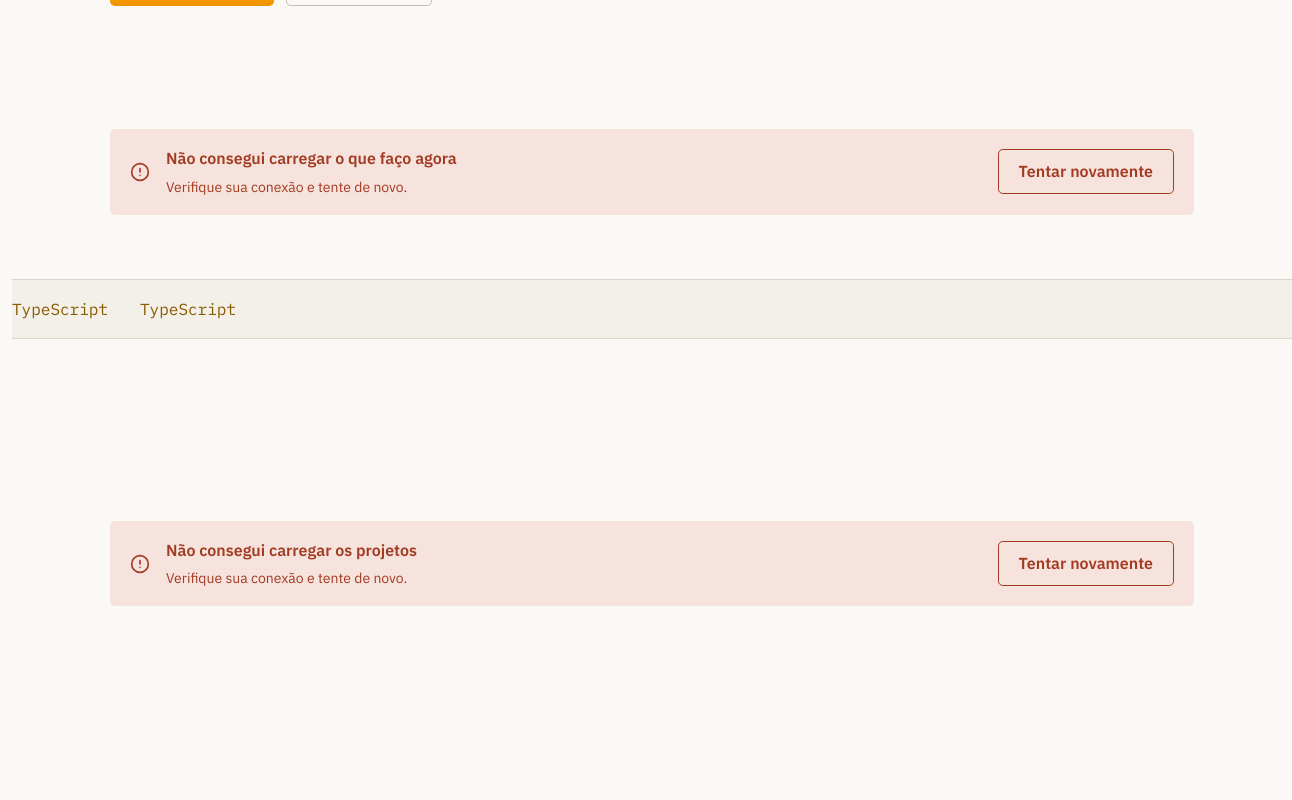
Test: HomePage › leva o foco ao alerta quando a nova tentativa falha de novo
(page scrolled)
Check: the text "Não consegui carregar os projetos" is shown, box [166,540,417,560]
Click the button "Tentar novamente" in the row of "Não consegui carregar os projetos".
click(1086, 564)  # box [998,541,1174,586]
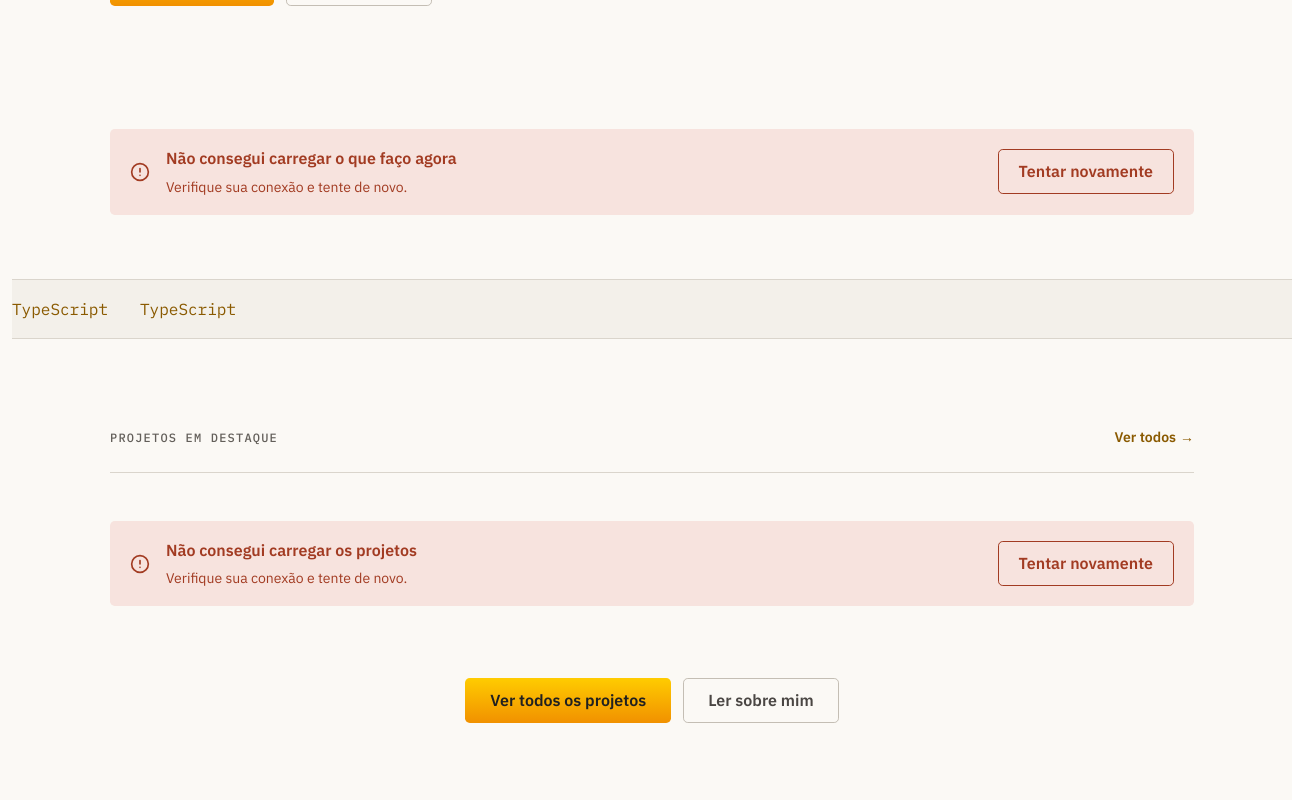
Check: the message that starts with "Não consegui carregar os projetos" is shown, box [166,540,417,560]
Check: the heading "Projetos em destaque" is shown, box [110,431,278,445]
Check: the link "Ler sobre mim" is shown, box [683,678,839,724]
